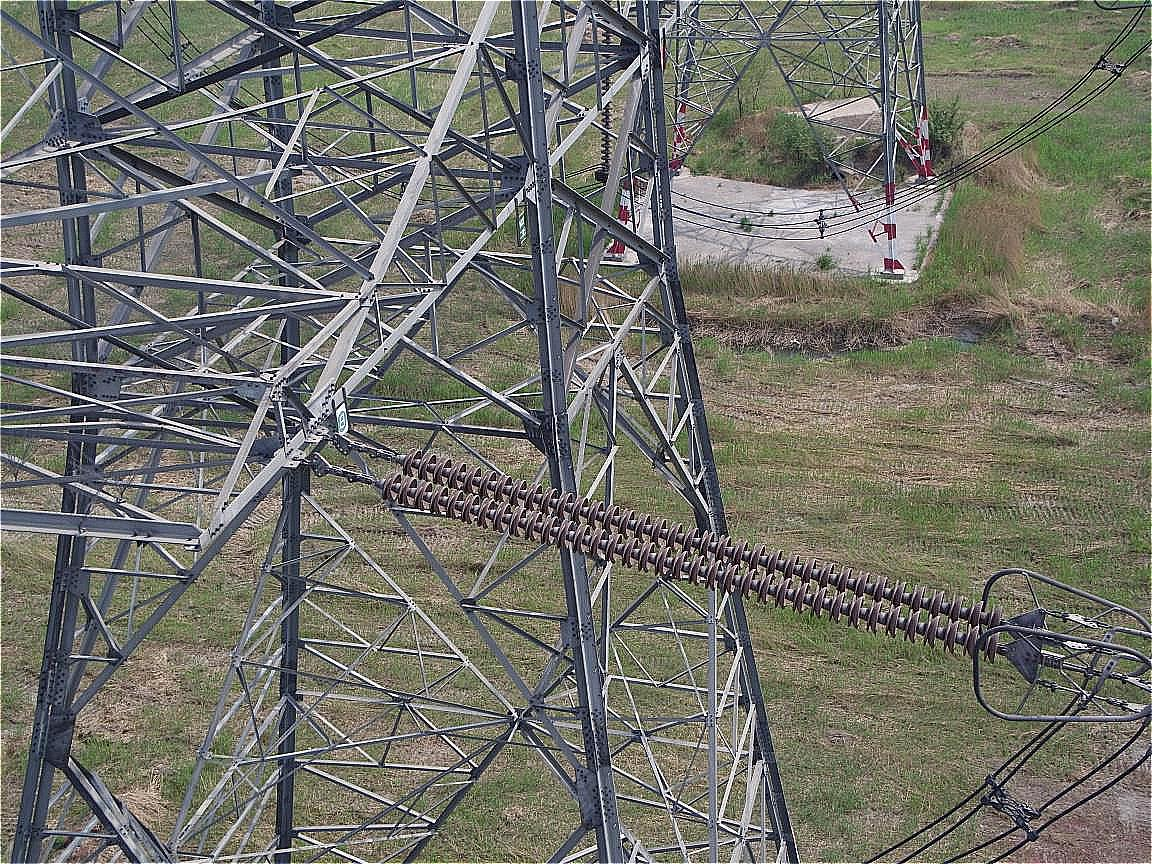insultor2: (372, 416, 1027, 671)
